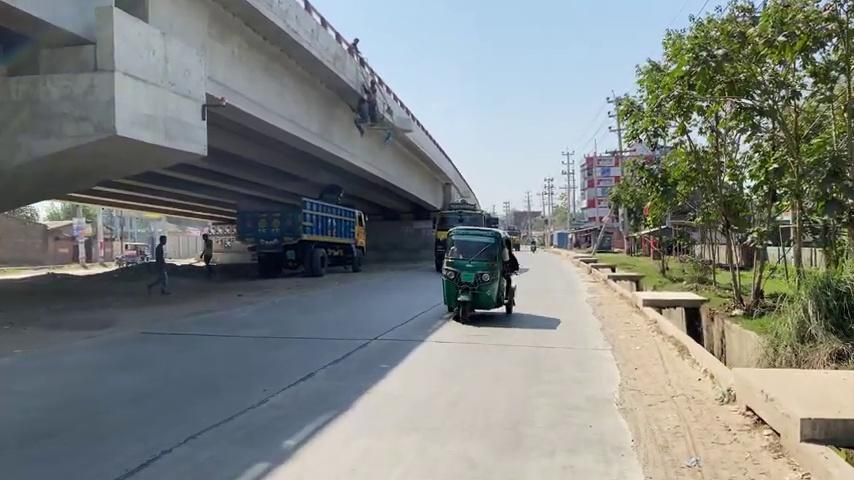Car: (553, 246, 852, 478)
Fallen-tree: (0, 0, 484, 224)
Fence: (146, 234, 171, 295), (198, 233, 215, 278)
Rickshaw: (440, 224, 519, 323), (432, 200, 499, 271)
